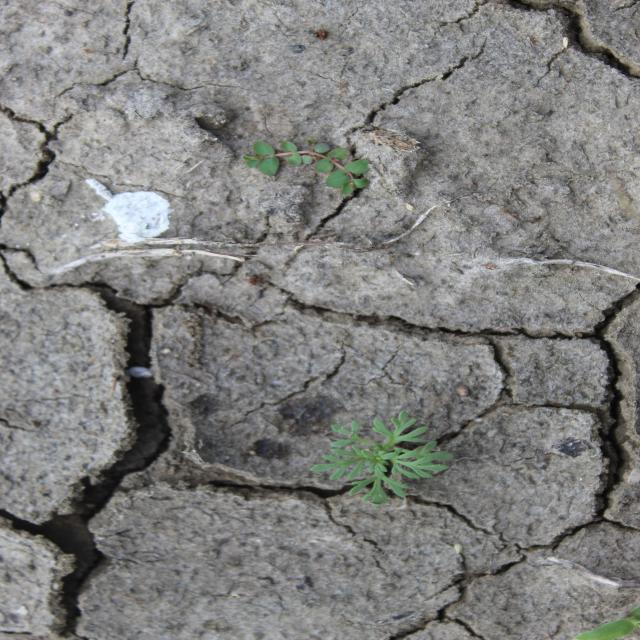Ragweed: (308, 410, 455, 511)
SpottedSpurge: (240, 138, 372, 197)
